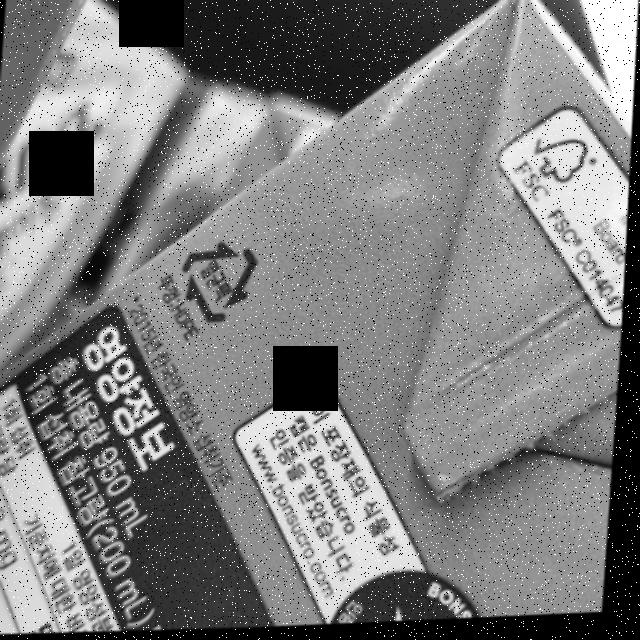SterilizedPack: (171, 232, 265, 327)
